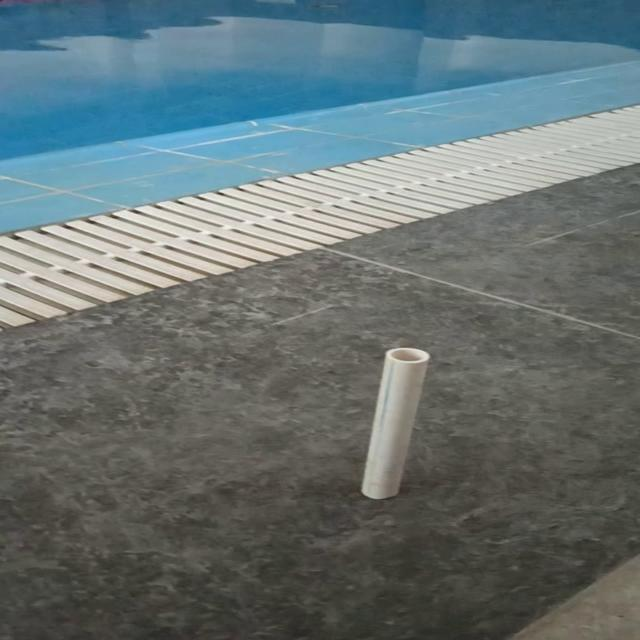Cube: (358, 347, 430, 499)
